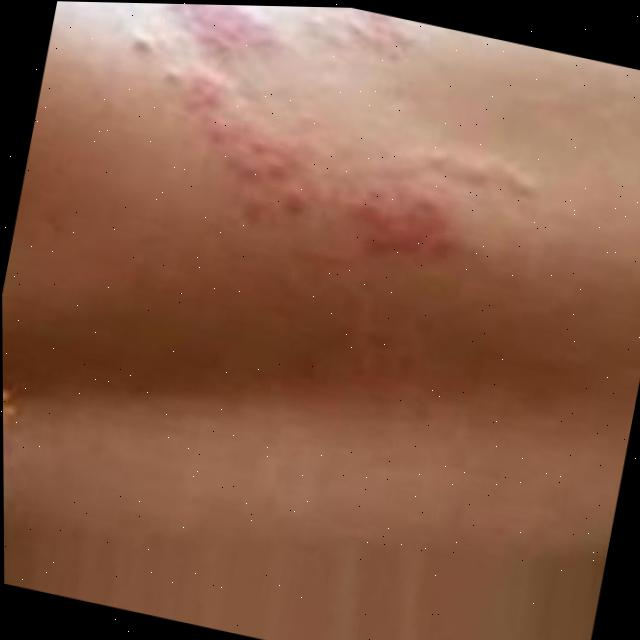Shingles: (128, 3, 504, 256)
